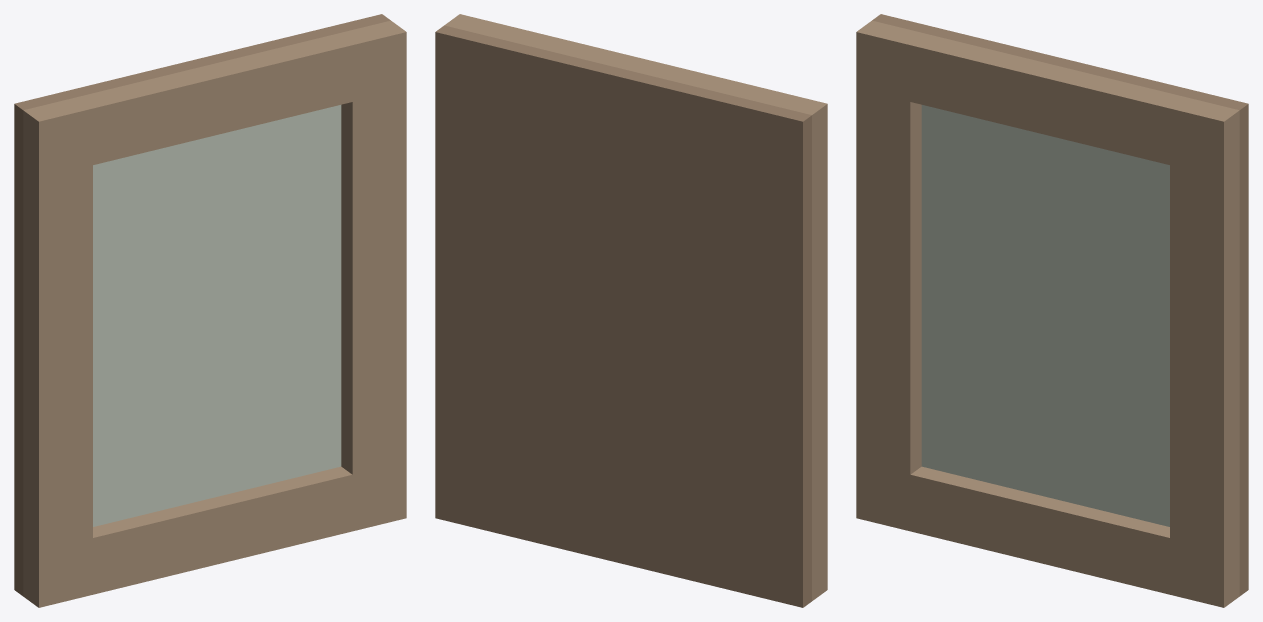
Rendered from picture-frame-3.gltf.
3 views of the same model, side by side, from view 1: azimuth 30°, elevation 25°; view 2: azimuth 150°, elevation 25°; view 3: azimuth 330°, elevation 25° (orthographic).
Parts seen in each view (by area): view 1: photo, rail_t, rail_l, rail_b, rail_r, back; view 2: back, rail_t, rail_l, rail_b; view 3: photo, rail_t, rail_r, rail_b, rail_l, back.
Part boxes in pixels (bbox=[...]): photo: bbox=[93, 105, 341, 526]; rail_t: bbox=[23, 20, 406, 178]; rail_l: bbox=[23, 165, 92, 550]; rail_b: bbox=[23, 461, 406, 607]; rail_r: bbox=[341, 89, 406, 474]; back: bbox=[14, 14, 390, 596]; back: bbox=[435, 25, 811, 607]; rail_t: bbox=[444, 14, 827, 171]; rail_l: bbox=[812, 161, 827, 544]; rail_b: bbox=[812, 533, 827, 600]; photo: bbox=[921, 105, 1169, 526]; rail_t: bbox=[856, 20, 1239, 178]; rail_r: bbox=[1170, 165, 1239, 550]; rail_b: bbox=[856, 461, 1239, 607]; rail_l: bbox=[856, 89, 921, 474]; back: bbox=[872, 14, 1248, 596].
Bounding box in the file's own units: 0.0119 × 0.015 × 0.00137.
